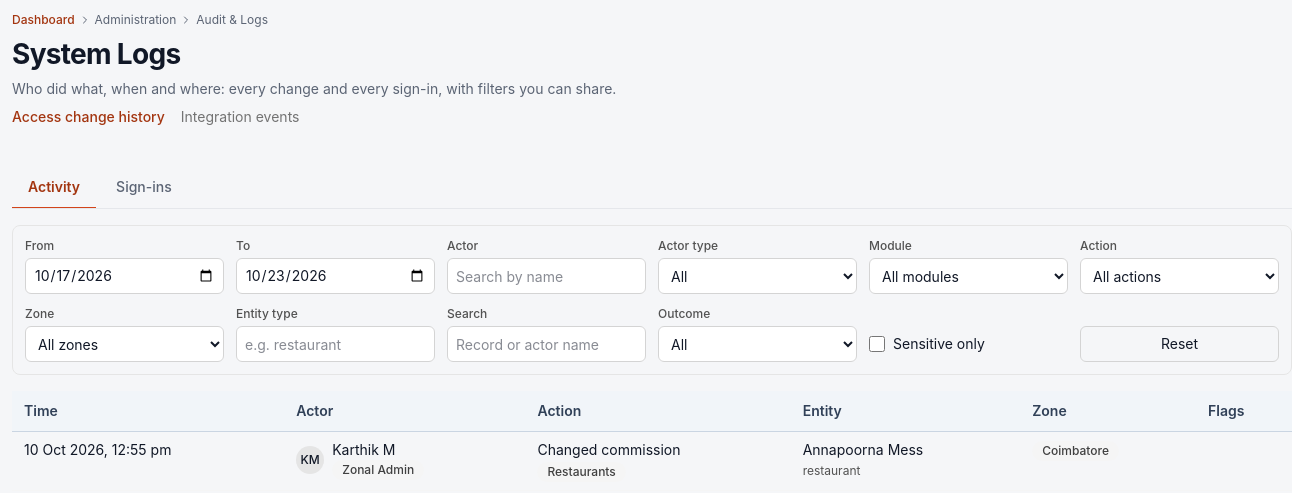
Scenario: every filter reaches the URL and the request › actor typeahead: search by name, pick, and the actor id is sent; clear removes it
In the dropdown labelled "Actor": (546, 276) [447, 258, 646, 294], type "kar"
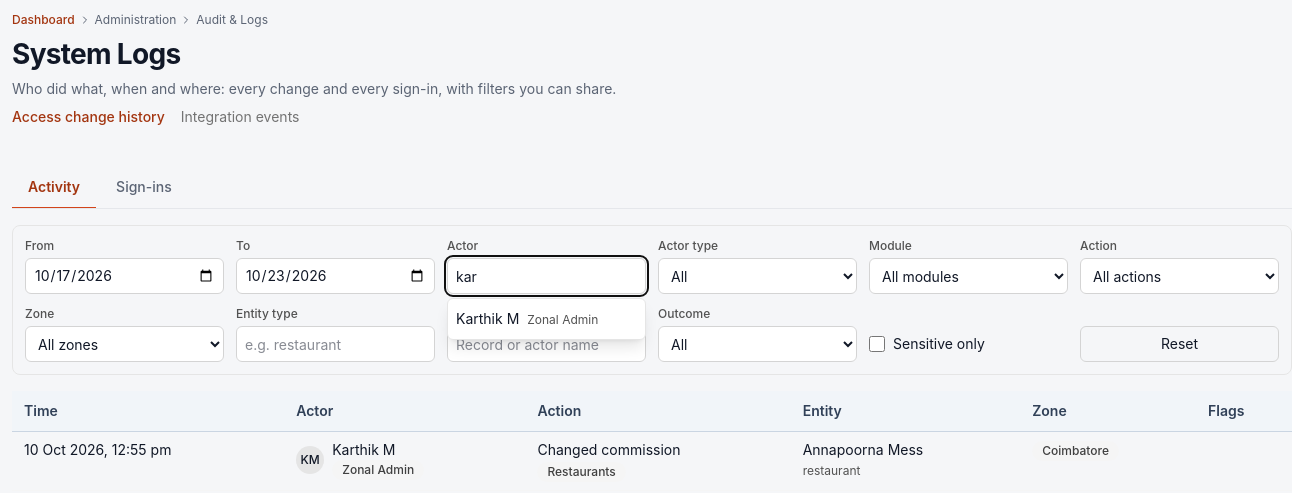
Click the option "Karthik M": (527, 318) [456, 309, 598, 327]
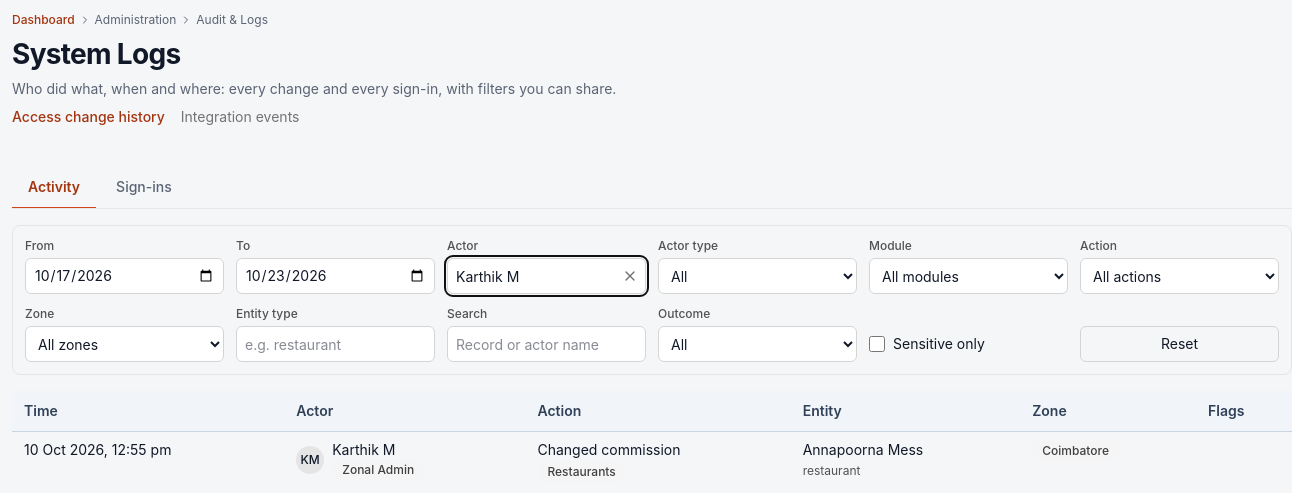
expect the dropdown labelled "Actor" holds "Karthik M": met, box [447, 258, 646, 294]
Click the button named "Clear": (630, 276) [620, 266, 640, 286]
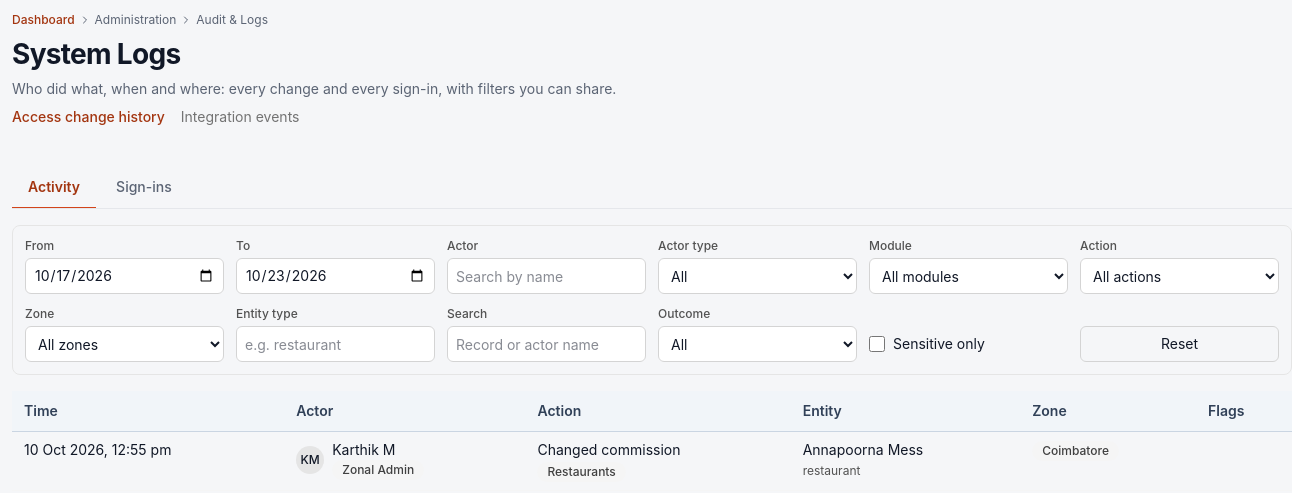
expect the dropdown labelled "Actor" is empty: met, box [447, 258, 646, 294]
